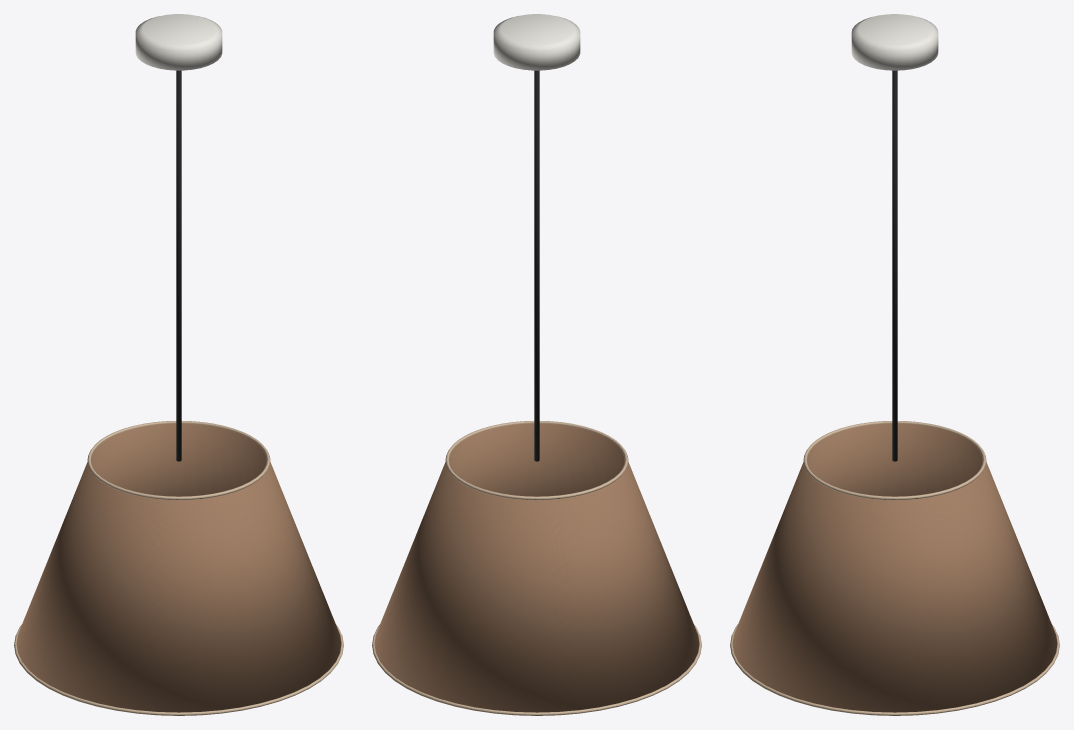
File: traditional.pendant.gltf
The picture shows the model from 3 angles, left to right: view 1: azimuth 30°, elevation 25°; view 2: azimuth 150°, elevation 25°; view 3: azimuth 270°, elevation 25°; orthographic projection.
Visible parts, largest first — view 1: traditional.pendant.ceiling-rose; view 2: traditional.pendant.ceiling-rose; view 3: traditional.pendant.ceiling-rose.
Part boxes in pixels (x1,y1,x2,y2): traditional.pendant.ceiling-rose: (14,14,343,715); traditional.pendant.ceiling-rose: (372,14,701,715); traditional.pendant.ceiling-rose: (730,14,1059,715).
Size of the model in its own units: 0.364 by 0.7517 by 0.364.
5 materials, 1 textured.
